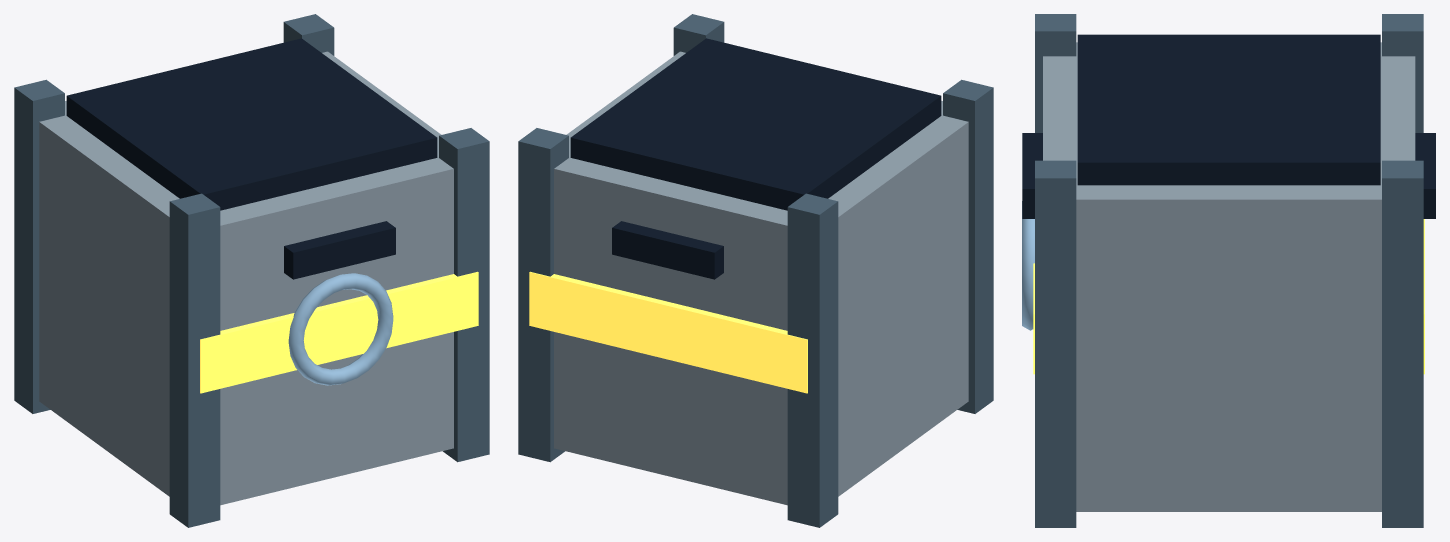
File: device-crate.glb
3 renders of one model, left to right at view 1: azimuth 30°, elevation 25°; view 2: azimuth 150°, elevation 25°; view 3: azimuth 270°, elevation 25°, orthographic. The views are drawn at different scales.
Visible parts, largest first — view 1: cargo-shell, cargo-top, cargo-reinforcement (×4), cargo-band, state-light, cargo-handle; view 2: cargo-shell, cargo-top, cargo-reinforcement (×4), cargo-band, cargo-handle; view 3: cargo-shell, cargo-top, cargo-reinforcement (×4), cargo-handle (×2), state-light.
Boxes of the visible parts, left/top/right/bottom form: cargo-shell: left=39, top=51, right=453, bottom=505; cargo-top: left=66, top=38, right=437, bottom=210; cargo-reinforcement (×4): left=14, top=14, right=489, bottom=527; cargo-band: left=200, top=271, right=478, bottom=393; state-light: left=288, top=273, right=393, bottom=385; cargo-handle: left=284, top=221, right=395, bottom=279; cargo-shell: left=554, top=51, right=968, bottom=505; cargo-top: left=570, top=38, right=941, bottom=210; cargo-reinforcement (×4): left=518, top=14, right=993, bottom=527; cargo-band: left=529, top=271, right=807, bottom=393; cargo-handle: left=612, top=221, right=723, bottom=279; cargo-shell: left=1043, top=42, right=1415, bottom=511; cargo-top: left=1077, top=34, right=1380, bottom=185; cargo-reinforcement (×4): left=1035, top=14, right=1423, bottom=527; cargo-handle (×2): left=1022, top=133, right=1435, bottom=218; state-light: left=1022, top=201, right=1034, bottom=330.
Bounding box in the file's own units: 1.41 × 1.4 × 1.5.
